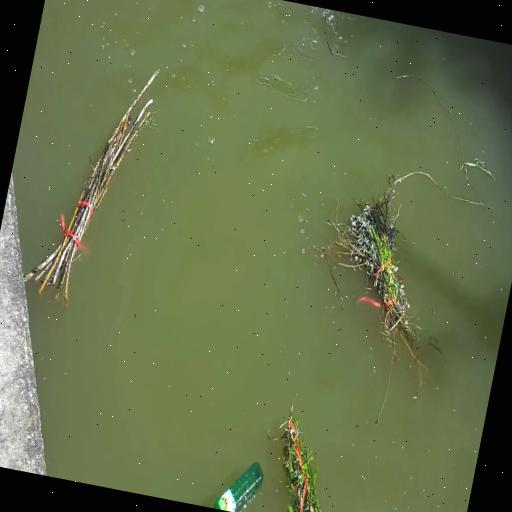plastic: (211, 448, 273, 512)
twig: (20, 36, 171, 320), (316, 178, 444, 367), (265, 402, 369, 512)
